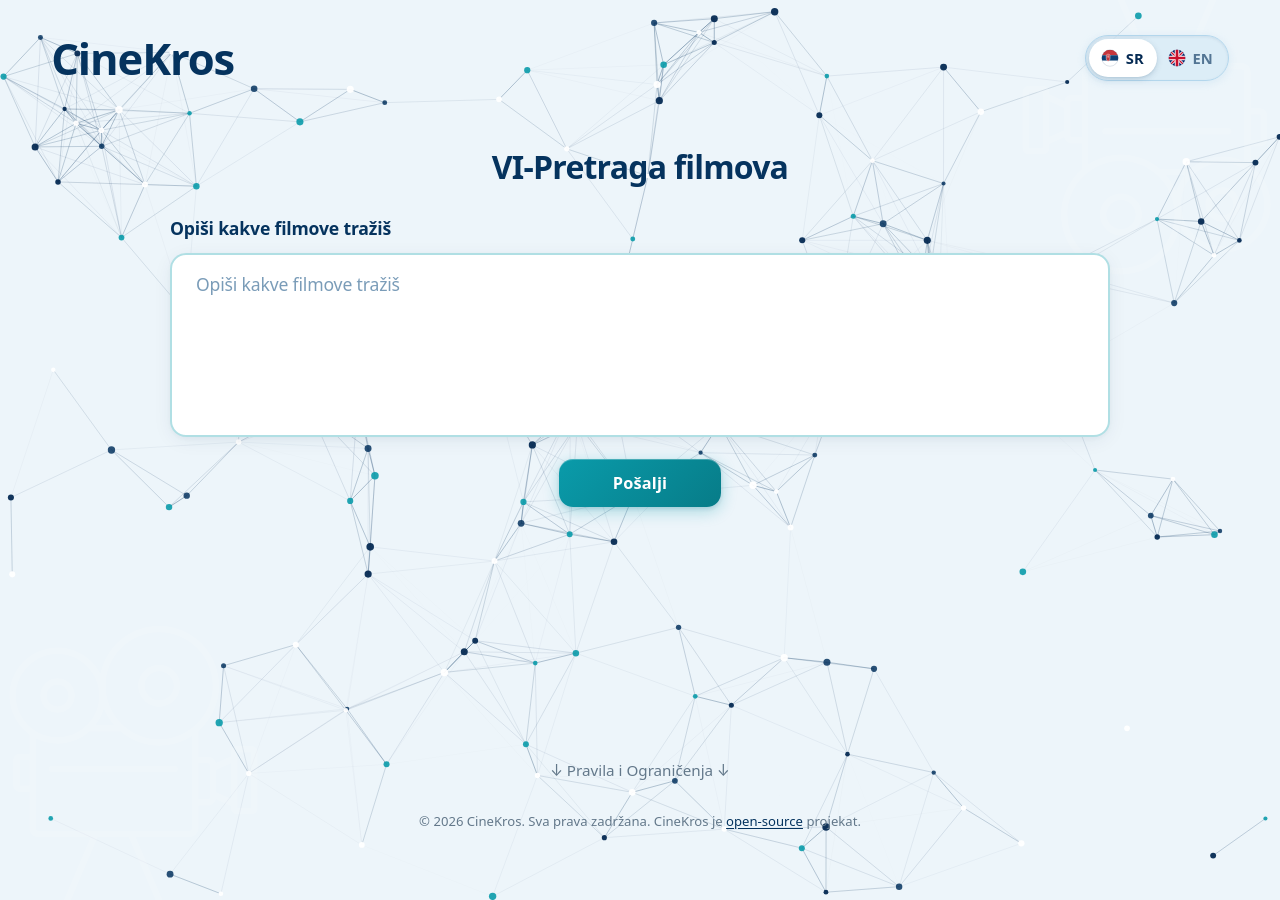
v2 recommendation frontend › localizes sanitized technical failures and never exposes raw response details
This screenshot has width=1280, height=900.
Type "film" into the text box at (640, 345), box [170, 253, 1110, 437]
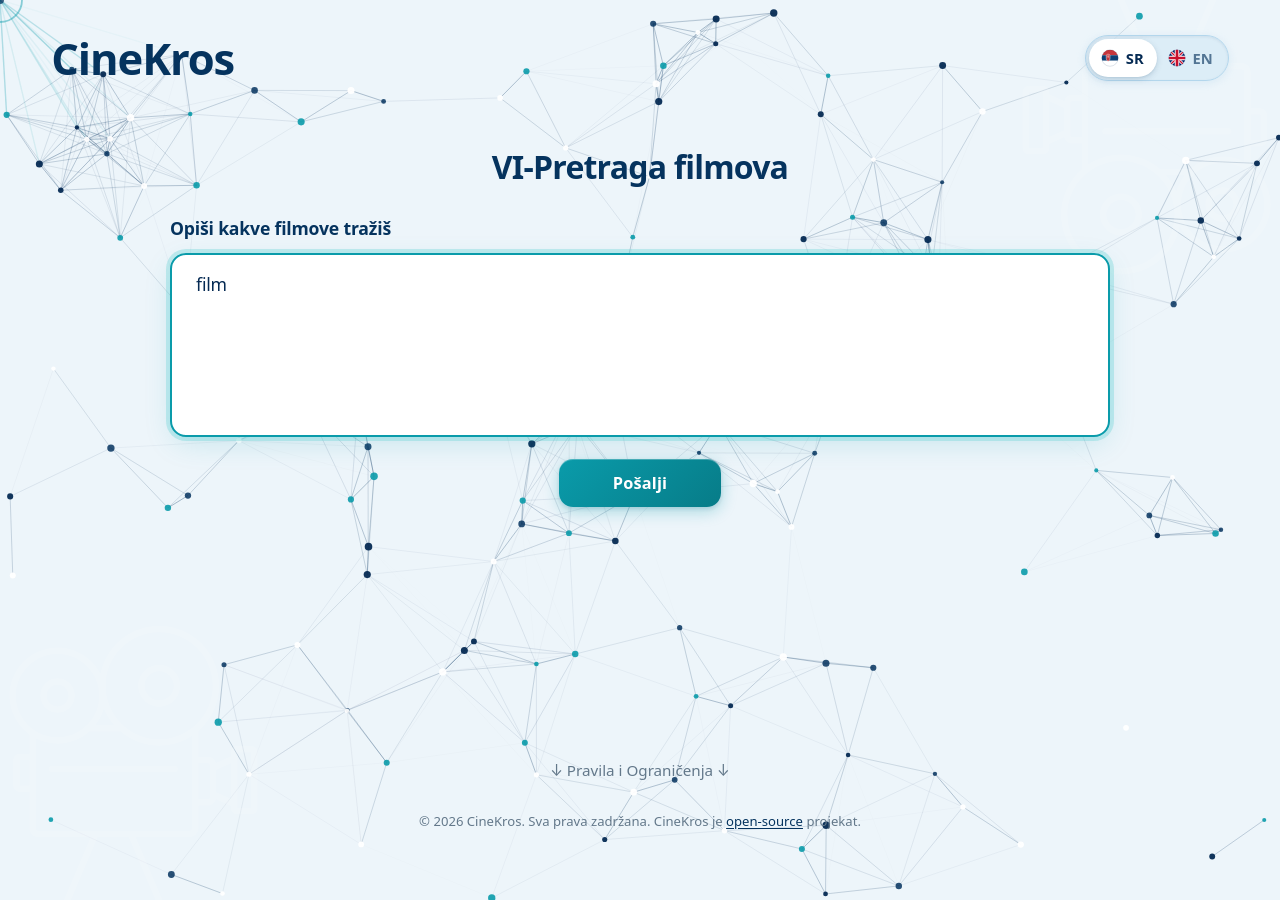
Click the button "Pošalji" at (640, 483), box [559, 459, 721, 507]
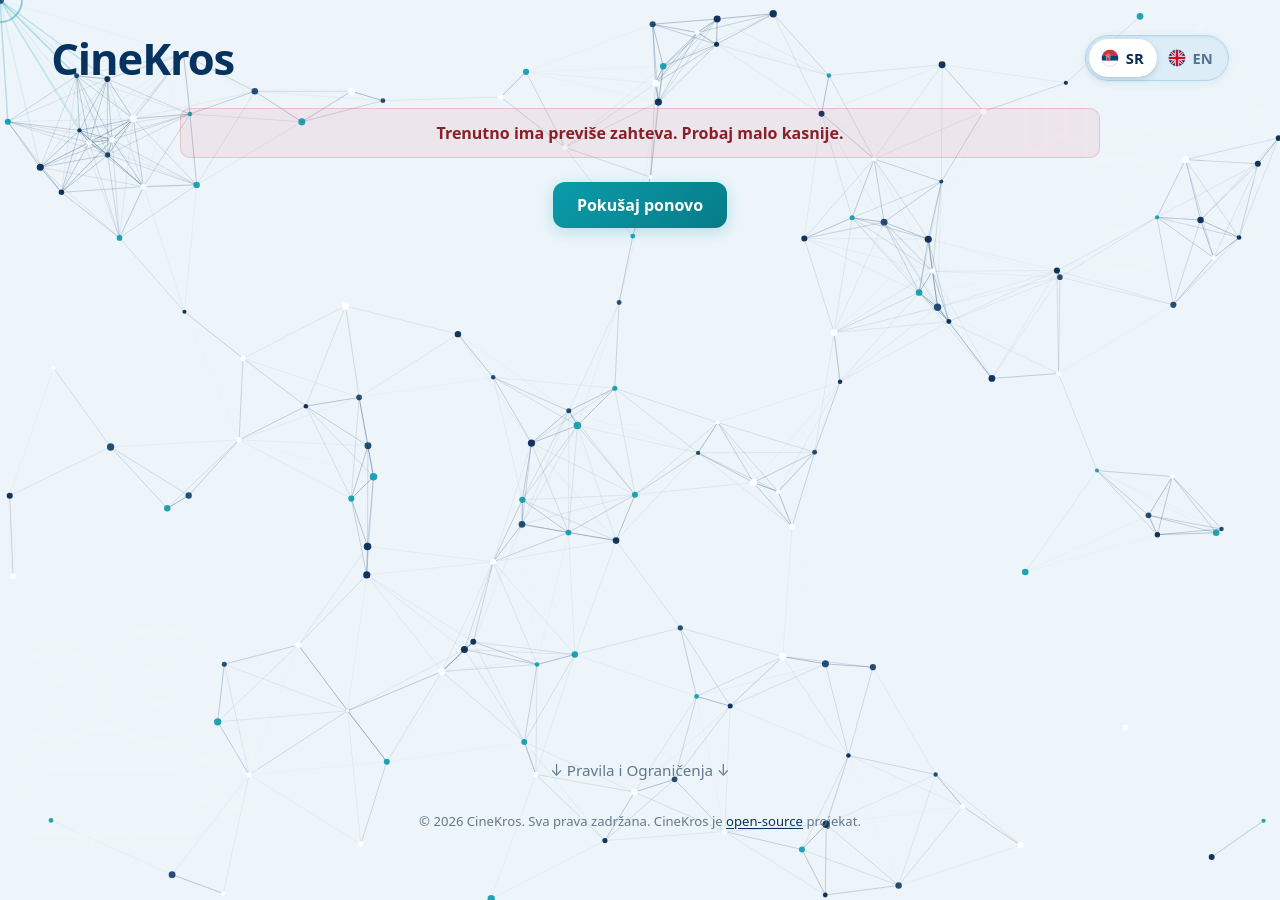
Result: the message shows "Trenutno ima previše zahteva." at [436, 122, 844, 144]
Click the button "EN" at (1190, 58), box [1156, 39, 1225, 77]
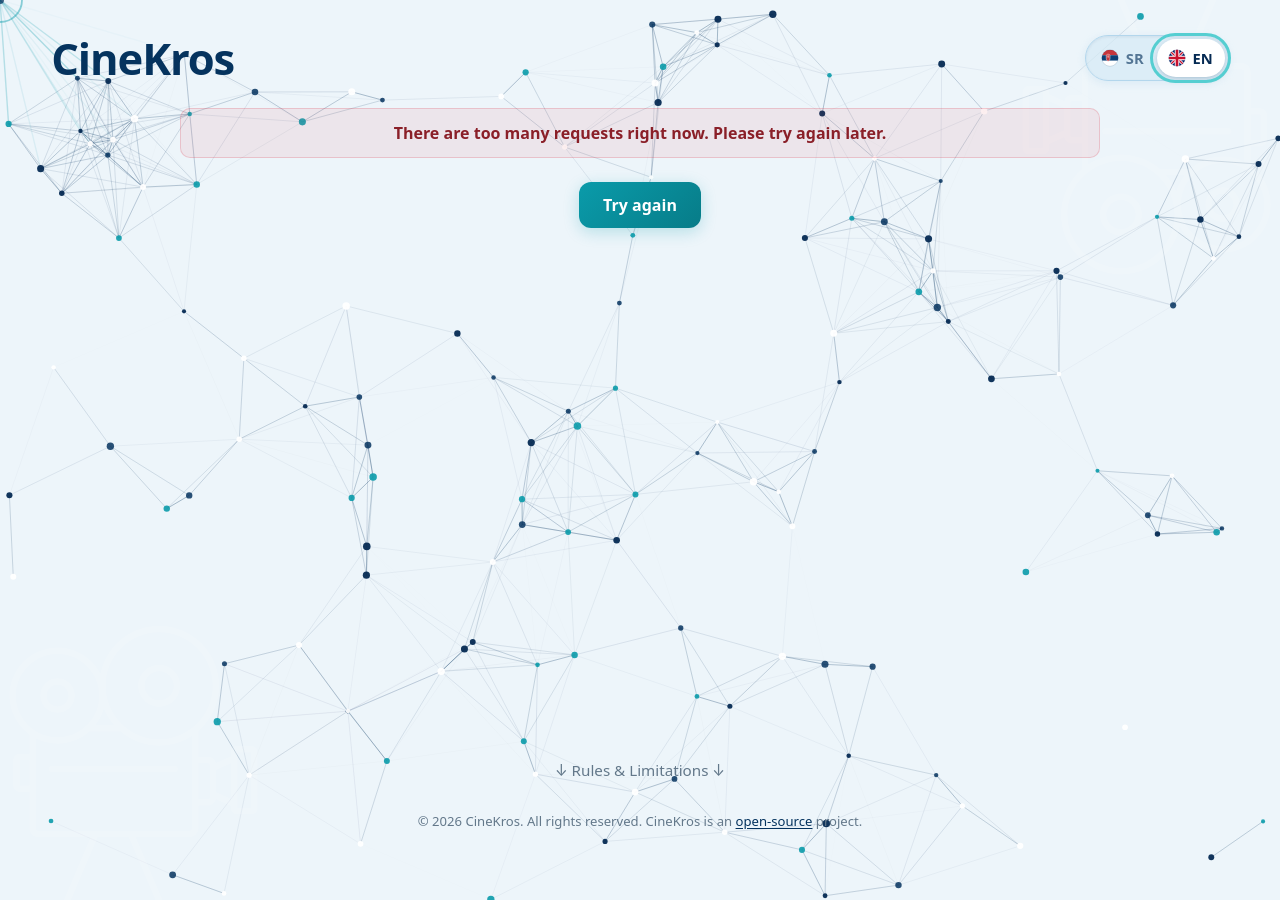
Result: the message shows "There are too many requests right now." at [394, 122, 886, 144]
